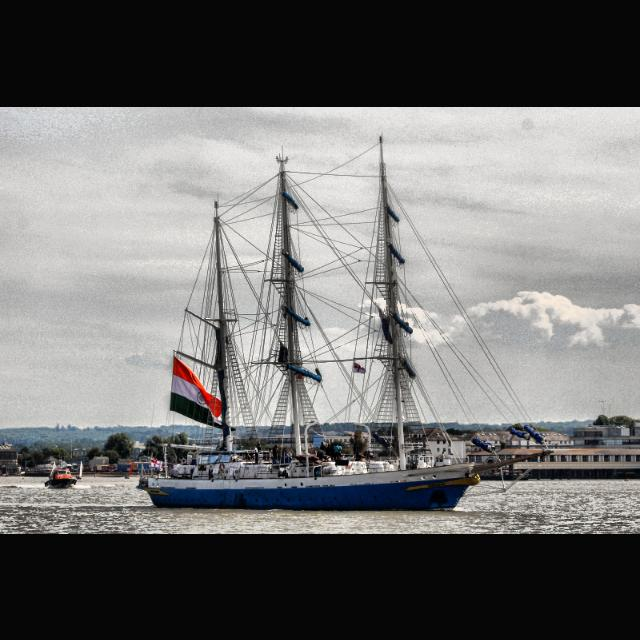sailing_vessel: (135, 133, 555, 512)
